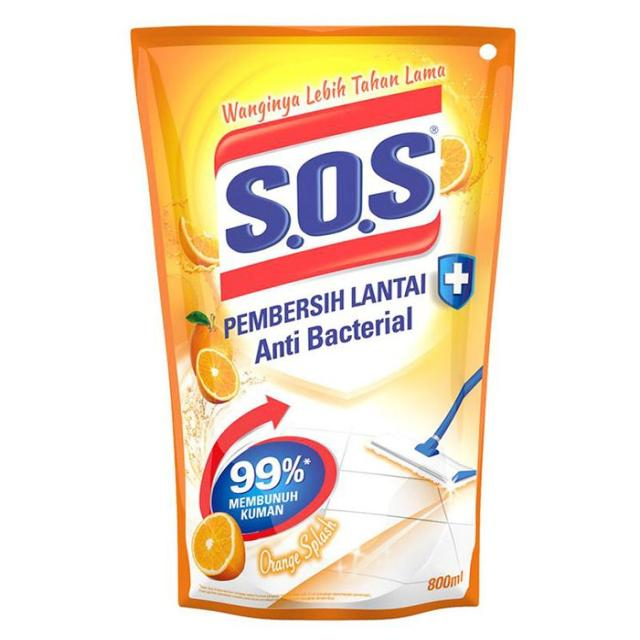KemasanPlastik: (129, 24, 516, 620)
